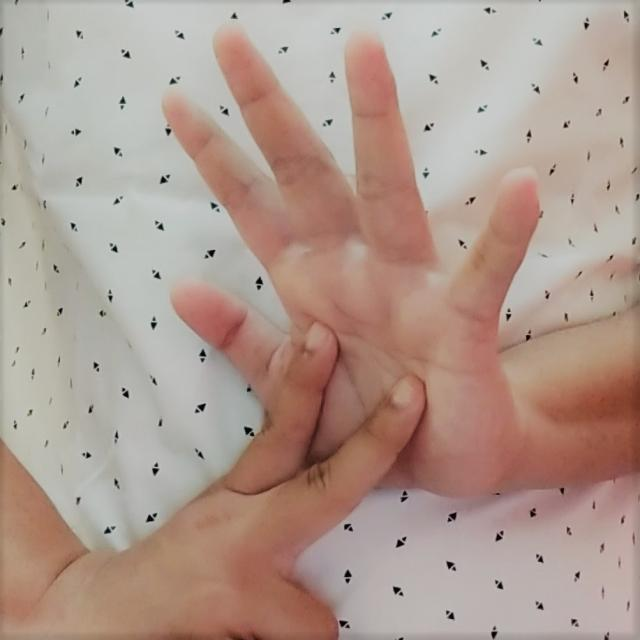N: (145, 17, 560, 560)
